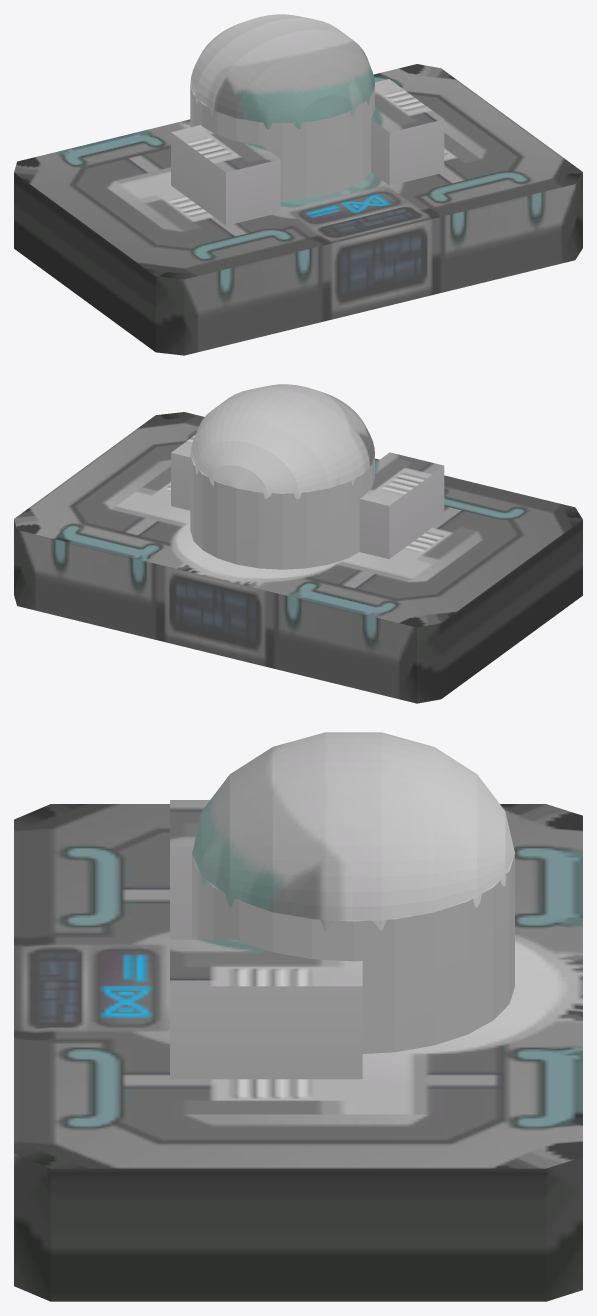
The model's file is Building_GeneAssembler.glb.
The picture shows the model from 3 angles, top to bottom: view 1: azimuth 30°, elevation 25°; view 2: azimuth 150°, elevation 25°; view 3: azimuth 270°, elevation 25°; orthographic projection. The views are drawn at different scales.
Visible parts, largest first — view 1: GeneAssembler; view 2: GeneAssembler; view 3: GeneAssembler.
Part boxes in pixels (x1=…): GeneAssembler: x1=14, y1=14, x2=582, y2=355; GeneAssembler: x1=14, y1=384, x2=582, y2=703; GeneAssembler: x1=14, y1=732, x2=582, y2=1301.
Size of the model in its own units: 2.94 by 1.38 by 1.94.
Materials: 1 (1 with a texture image).
